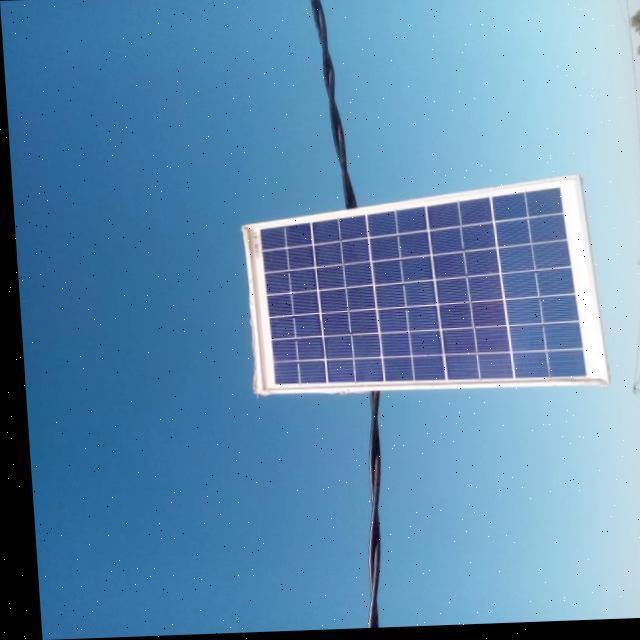Normal Solar Panel: (242, 179, 600, 393)
